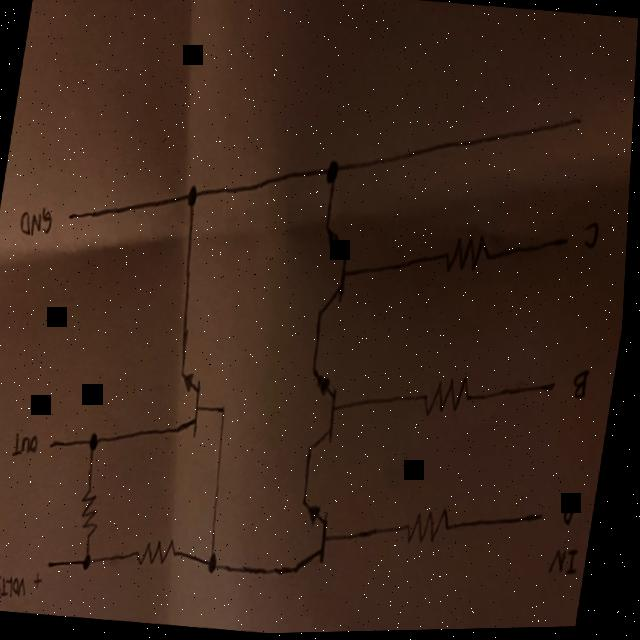junction: (319, 155, 350, 200), (83, 423, 111, 466), (205, 543, 231, 584), (181, 178, 206, 220), (78, 548, 102, 580)
resistor: (438, 225, 502, 289), (420, 372, 481, 427), (405, 505, 461, 555), (136, 531, 190, 581), (73, 482, 112, 548)
terminal: (573, 113, 589, 134), (49, 437, 63, 454), (551, 382, 562, 398), (563, 237, 574, 252), (66, 211, 77, 225), (51, 558, 61, 573), (541, 514, 550, 527)
text: (17, 198, 61, 252), (550, 548, 589, 586), (12, 427, 48, 468), (580, 220, 606, 260), (573, 368, 597, 411), (0, 573, 35, 602), (562, 496, 586, 535), (34, 567, 51, 596)
transistor: (303, 216, 366, 331), (294, 361, 358, 468), (279, 492, 346, 590), (159, 359, 218, 449)
